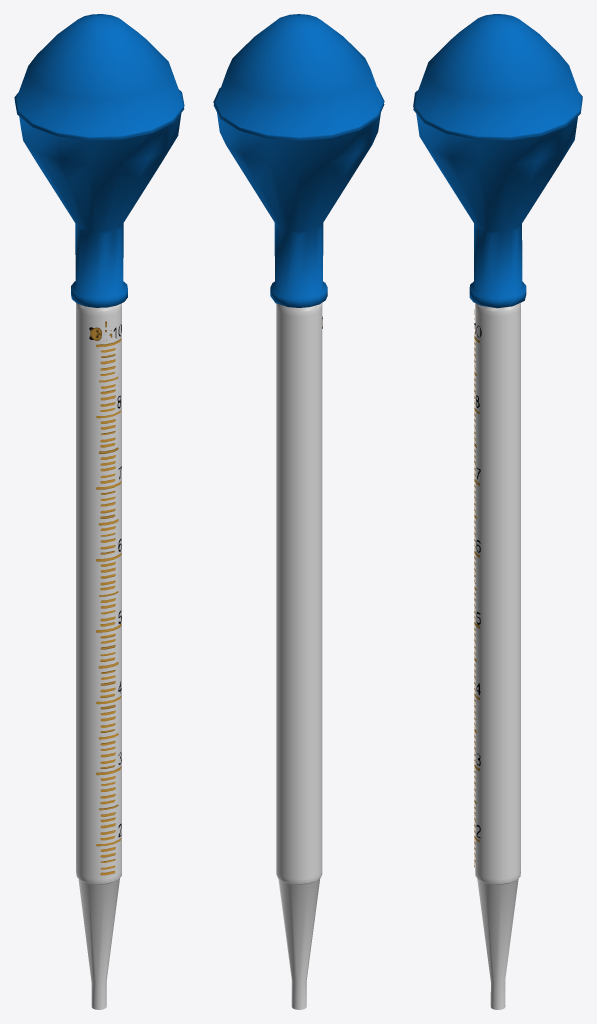
The model's file is pipette_bleu_minifiedc.gltf.
3 views of the same model, side by side, from view 1: azimuth 30°, elevation 25°; view 2: azimuth 150°, elevation 25°; view 3: azimuth 270°, elevation 25° (orthographic).
Visible parts, largest first — view 1: Dropper_1; view 2: Dropper_1; view 3: Dropper_1.
Boxes of the visible parts, x1=… form: Dropper_1: x1=14, y1=14, x2=184, y2=1009; Dropper_1: x1=213, y1=14, x2=384, y2=1009; Dropper_1: x1=413, y1=14, x2=582, y2=1009.
Size of the model in its own units: 0.0626 by 0.4027 by 0.0626.
3 materials, 1 textured.
